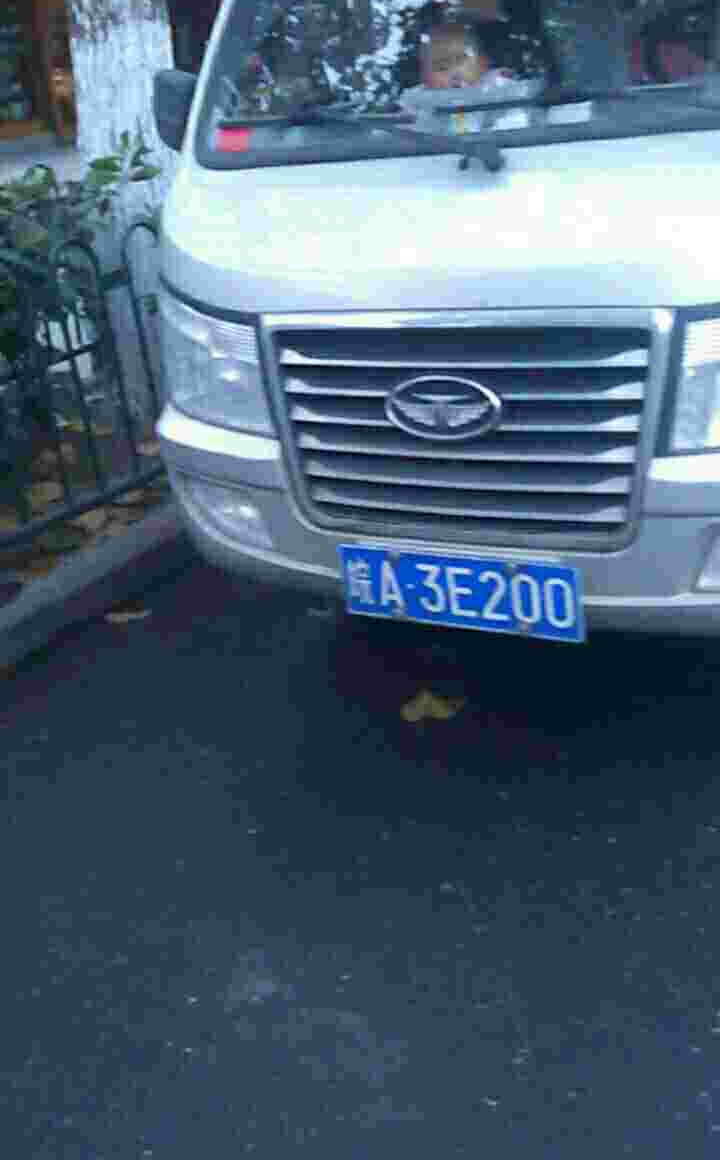license_plate: (332, 547, 586, 645)
